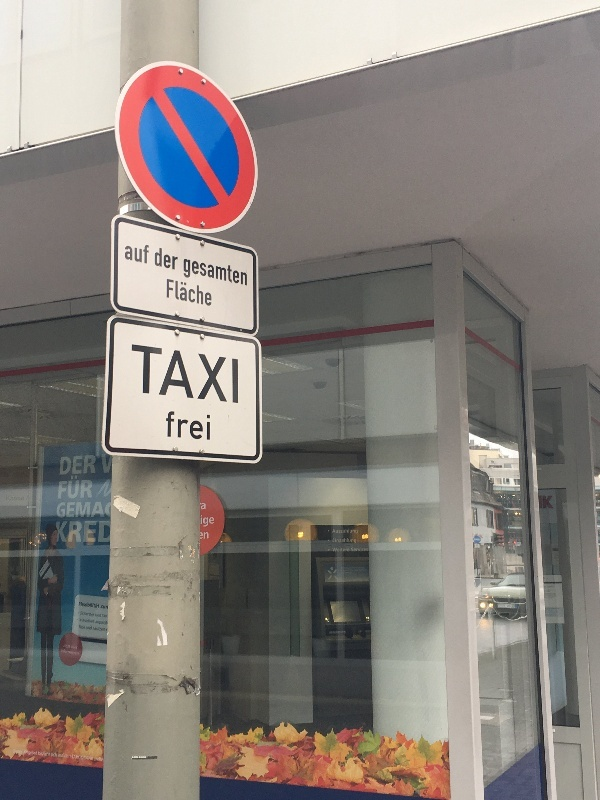text: (145, 344, 160, 404), (161, 344, 176, 404), (177, 344, 192, 404), (193, 344, 208, 404), (209, 344, 224, 404), (225, 344, 238, 404), (132, 344, 144, 404), (177, 411, 192, 440), (193, 411, 208, 440), (177, 279, 192, 307), (193, 279, 208, 307), (193, 258, 208, 286), (209, 258, 224, 286), (225, 258, 240, 286), (129, 241, 144, 265), (161, 247, 176, 271), (65, 476, 80, 499), (65, 520, 80, 543), (81, 520, 96, 543), (97, 520, 111, 543), (81, 456, 97, 476), (65, 456, 80, 476), (81, 476, 93, 499), (65, 501, 80, 519), (81, 501, 96, 519), (167, 411, 176, 440), (167, 279, 176, 307), (97, 501, 111, 519), (184, 258, 192, 286), (102, 454, 112, 473), (241, 258, 247, 286), (57, 520, 64, 543), (57, 501, 64, 519), (155, 247, 160, 271), (81, 601, 96, 609), (59, 476, 64, 499), (545, 495, 553, 509), (81, 611, 96, 618), (81, 625, 96, 632), (337, 528, 352, 535), (65, 649, 80, 656), (145, 241, 149, 265), (97, 601, 109, 609), (353, 547, 369, 553), (201, 515, 208, 528), (81, 619, 96, 625), (337, 538, 352, 544), (209, 279, 212, 307), (337, 547, 350, 553), (97, 611, 108, 618), (97, 625, 108, 632), (200, 531, 208, 540), (539, 495, 544, 509), (97, 619, 108, 625), (209, 515, 214, 528), (61, 456, 64, 476), (209, 411, 211, 440), (200, 503, 208, 510), (126, 241, 128, 265), (72, 644, 80, 650), (65, 643, 71, 649), (353, 528, 358, 535), (177, 247, 178, 271), (353, 538, 357, 544), (333, 528, 336, 535), (61, 649, 64, 656), (333, 538, 336, 544), (333, 547, 336, 553), (79, 601, 80, 609), (79, 625, 80, 632)
